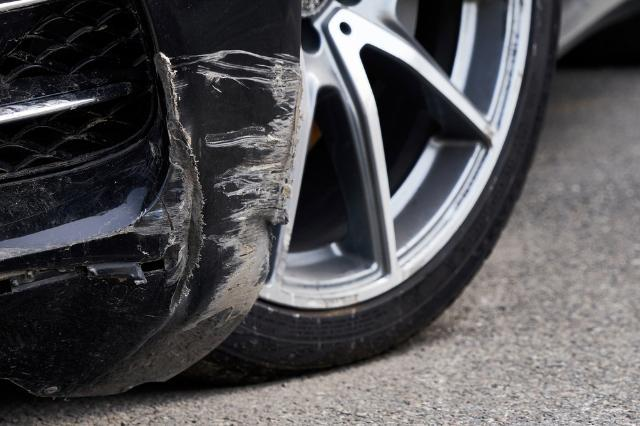rub: (0, 47, 304, 332)
